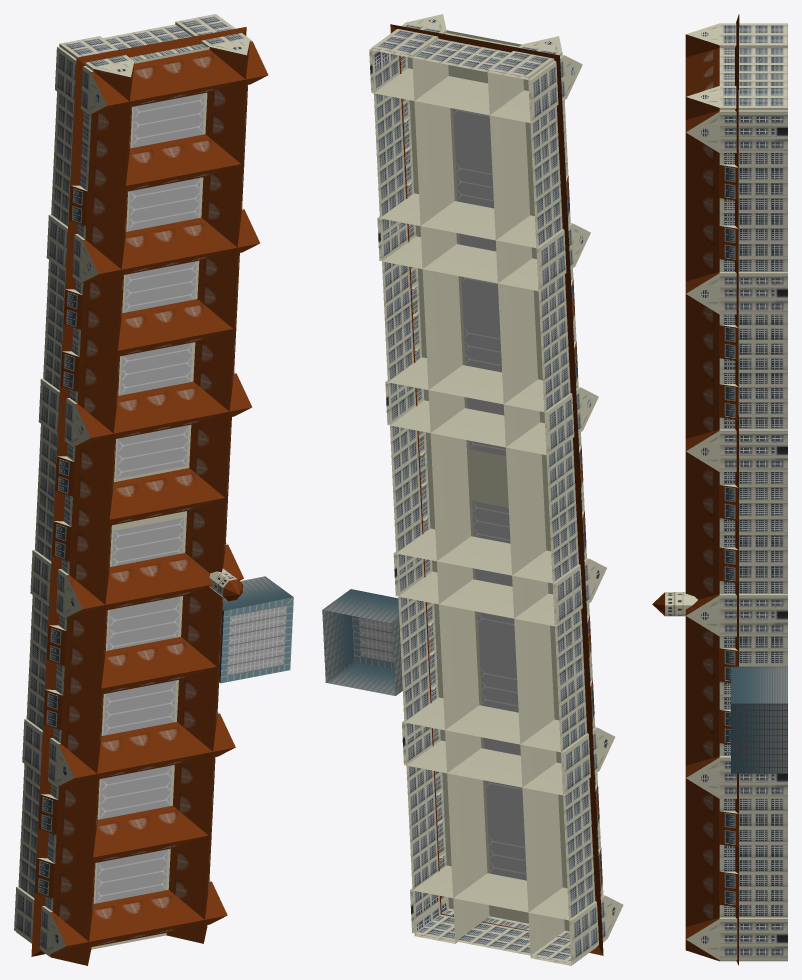
File: DEU_HI1154_KARLSRUHE_ZKM_MEDIA_MUSEUM_S.OBJ
3 renders of one model, left to right at view 1: azimuth 30°, elevation 25°; view 2: azimuth 150°, elevation 25°; view 3: azimuth 270°, elevation 25°, orthographic.
Parts seen in each view (by area): view 1: DEU_HI1154_KARLSRUHE_ZKM_MEDIA_MUSEUM_S; view 2: DEU_HI1154_KARLSRUHE_ZKM_MEDIA_MUSEUM_S; view 3: DEU_HI1154_KARLSRUHE_ZKM_MEDIA_MUSEUM_S.
Part boxes in pixels (x1=…): DEU_HI1154_KARLSRUHE_ZKM_MEDIA_MUSEUM_S: x1=14, y1=14, x2=293, y2=965; DEU_HI1154_KARLSRUHE_ZKM_MEDIA_MUSEUM_S: x1=322, y1=14, x2=623, y2=965; DEU_HI1154_KARLSRUHE_ZKM_MEDIA_MUSEUM_S: x1=652, y1=14, x2=787, y2=965.
Size of the model in its own units: 95.01 by 315 by 43.57.
1 material, 1 textured.
